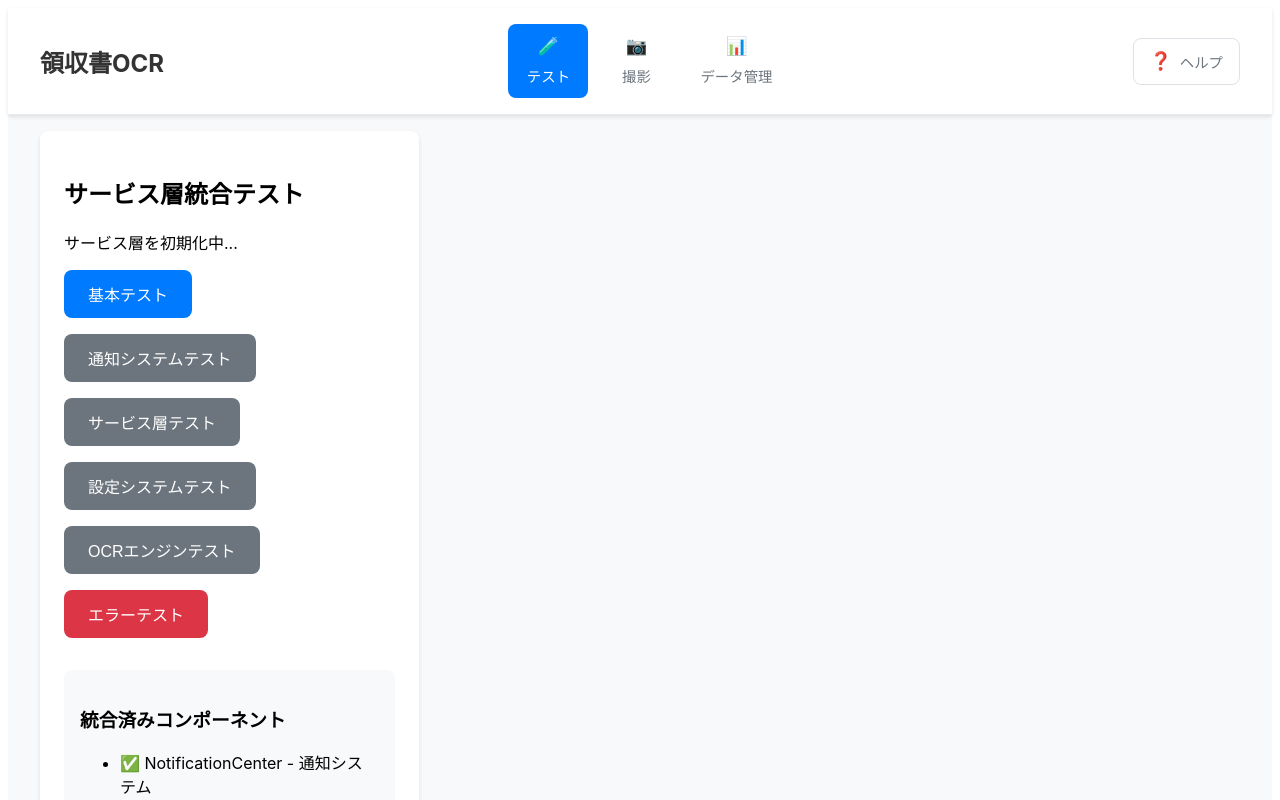
Test: Help System Integration Tests › should close help system when close button is clicked
Expected: the heading "領収書OCR" is shown, [40,44,164,78]
Note: Open help system
Click the button titled "ヘルプ・ガイド". click: (1186, 61)
box: [1133,38,1240,84]
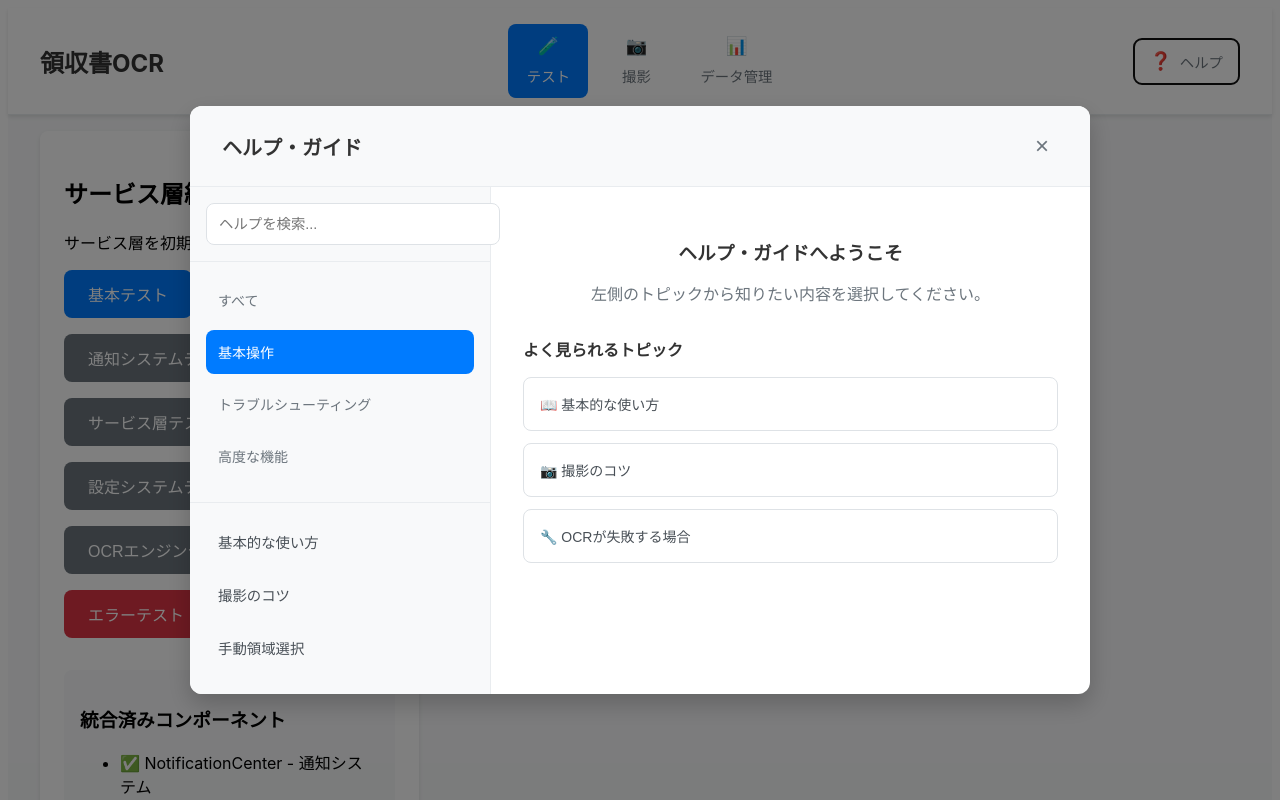
Expected: the heading "ヘルプ・ガイドへようこそ" is shown, [678,242,903,265]
Note: Close help system
Click the button named "ヘルプを閉じる". click: (1042, 146)
box: [1026,130,1058,162]
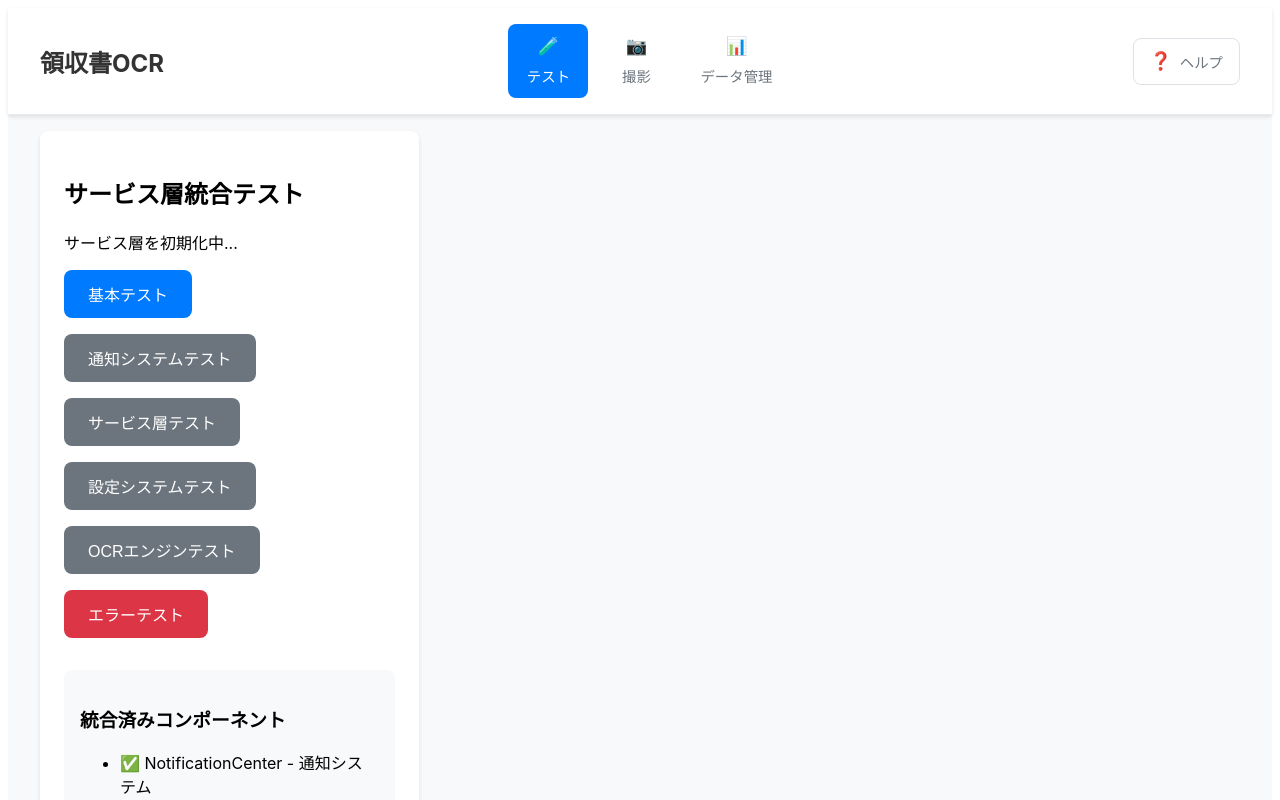
Expected: the heading "ヘルプ・ガイドへようこそ" is gone
